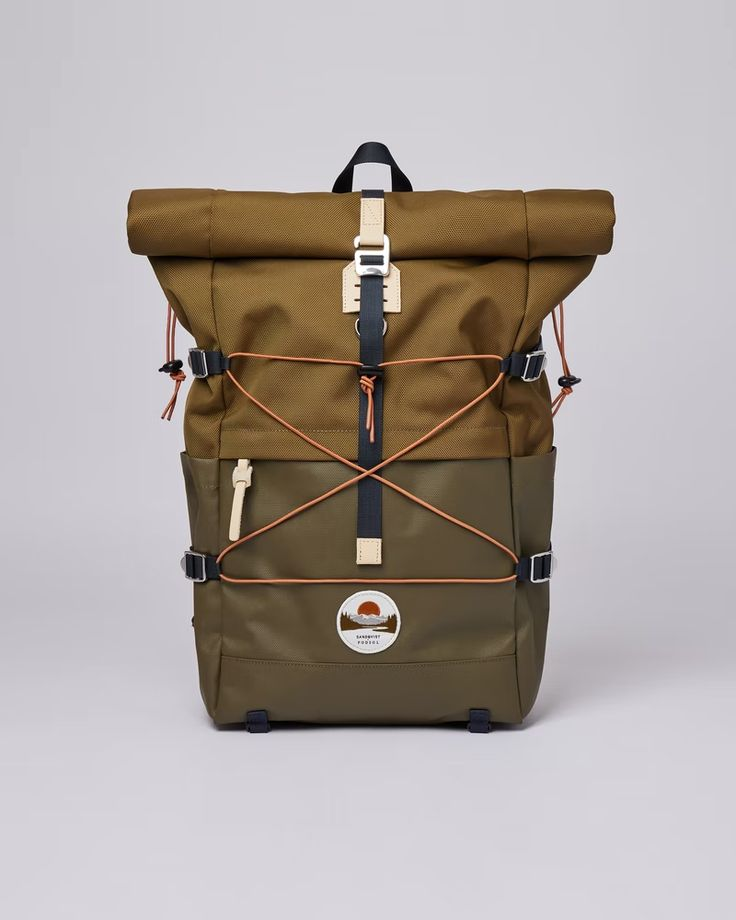nylon: (128, 188, 615, 736)
